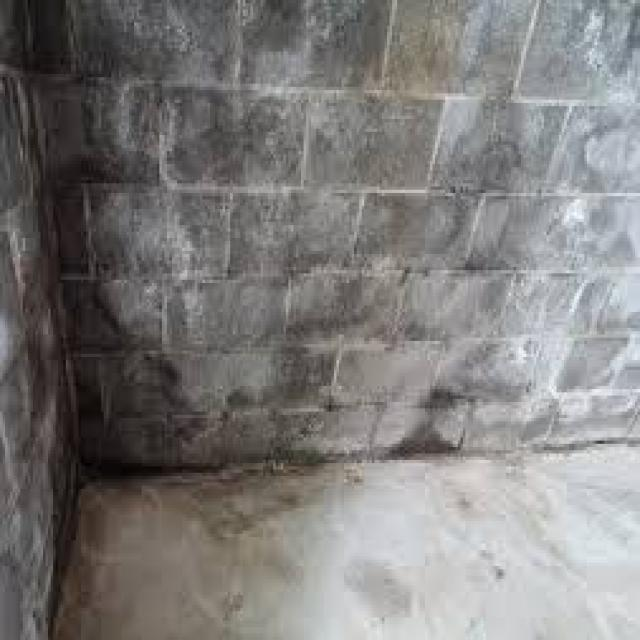stain_mould: (4, 2, 639, 639)
